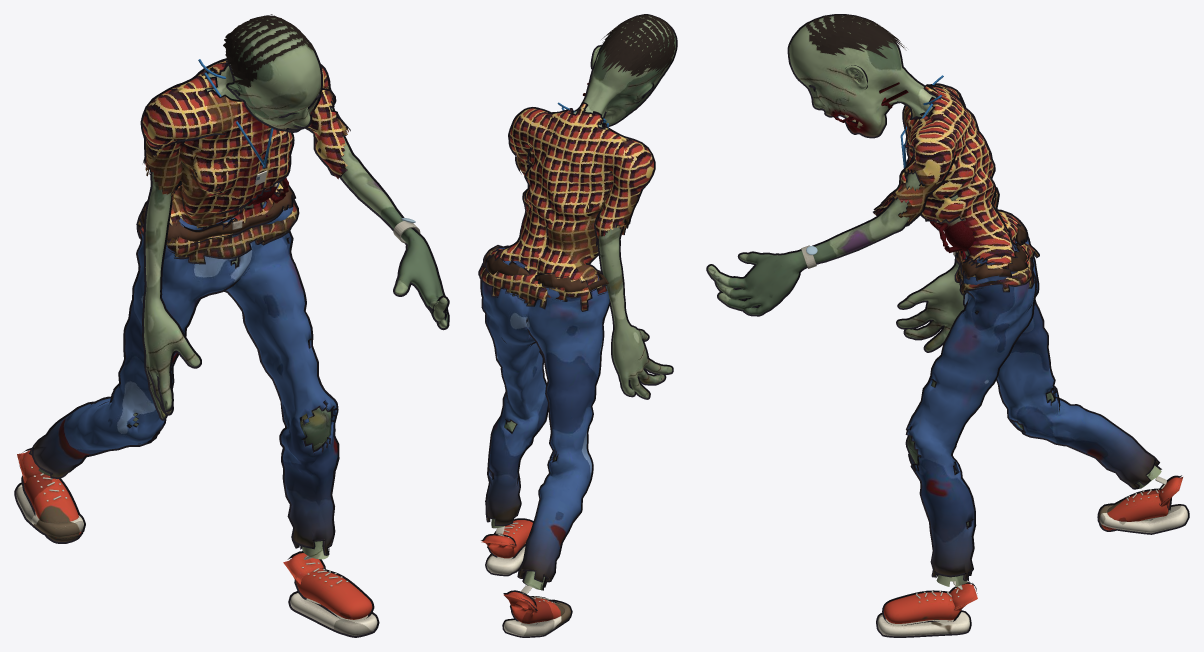
File: walker-wip.glb
3 views of the same model, side by side, from view 1: azimuth 30°, elevation 25°; view 2: azimuth 150°, elevation 25°; view 3: azimuth 270°, elevation 25° (orthographic). The views are drawn at different scales.
Parts seen in each view (by area): view 1: Walker pants, Walker shirt, Walker body, Walker pants hull, Walker body hull, Walker L shoe, Walker hair, Walker R shoe, Walker shirt hull, Walker L sole, Walker belt, Walker R sole; view 2: Walker pants, Walker shirt, Walker body, Walker hair, Walker pants hull, Walker body hull, Walker shirt hull, Walker belt, Walker R shoe, Walker L shoe, Walker R sole, Walker L sole (+1 smaller); view 3: Walker pants, Walker body, Walker shirt, Walker pants hull, Walker body hull, Walker hair, Walker L shoe, Walker shirt hull, Walker R shoe, Walker L sole, Walker R sole, Walker belt.
Part boxes in pixels (x1,y1,x2,y2): Walker pants: [31, 182, 337, 554]; Walker shirt: [138, 60, 348, 263]; Walker body: [35, 18, 447, 559]; Walker pants hull: [29, 200, 339, 555]; Walker body hull: [142, 15, 449, 552]; Walker L shoe: [283, 553, 372, 619]; Walker hair: [223, 14, 314, 87]; Walker R shoe: [17, 450, 81, 541]; Walker shirt hull: [136, 58, 350, 264]; Walker L sole: [290, 593, 377, 635]; Walker belt: [140, 181, 294, 241]; Walker R sole: [16, 484, 83, 537]; Walker pants: [482, 248, 609, 584]; Walker shirt: [480, 103, 653, 310]; Walker body: [491, 16, 675, 590]; Walker hair: [596, 14, 675, 77]; Walker pants hull: [480, 246, 610, 587]; Walker body hull: [492, 14, 677, 590]; Walker shirt hull: [478, 102, 655, 311]; Walker belt: [484, 246, 608, 292]; Walker R shoe: [503, 592, 567, 623]; Walker L shoe: [481, 520, 532, 558]; Walker R sole: [504, 601, 570, 636]; Walker L sole: [486, 543, 525, 574]; Walker pants: [907, 240, 1158, 579]; Walker body: [708, 15, 1161, 586]; Walker shirt: [873, 85, 1038, 293]; Walker pants hull: [905, 237, 1159, 580]; Walker body hull: [706, 14, 1161, 581]; Walker hair: [805, 14, 906, 58]; Walker L shoe: [883, 583, 977, 623]; Walker shirt hull: [873, 83, 1039, 295]; Walker R shoe: [1101, 477, 1182, 530]; Walker L sole: [877, 612, 969, 636]; Walker R sole: [1099, 505, 1187, 533]; Walker belt: [956, 218, 1027, 280].
Size of the model in its own units: 0.5096 by 1.54 by 1.18.
Materials: 28 (20 with a texture image).
